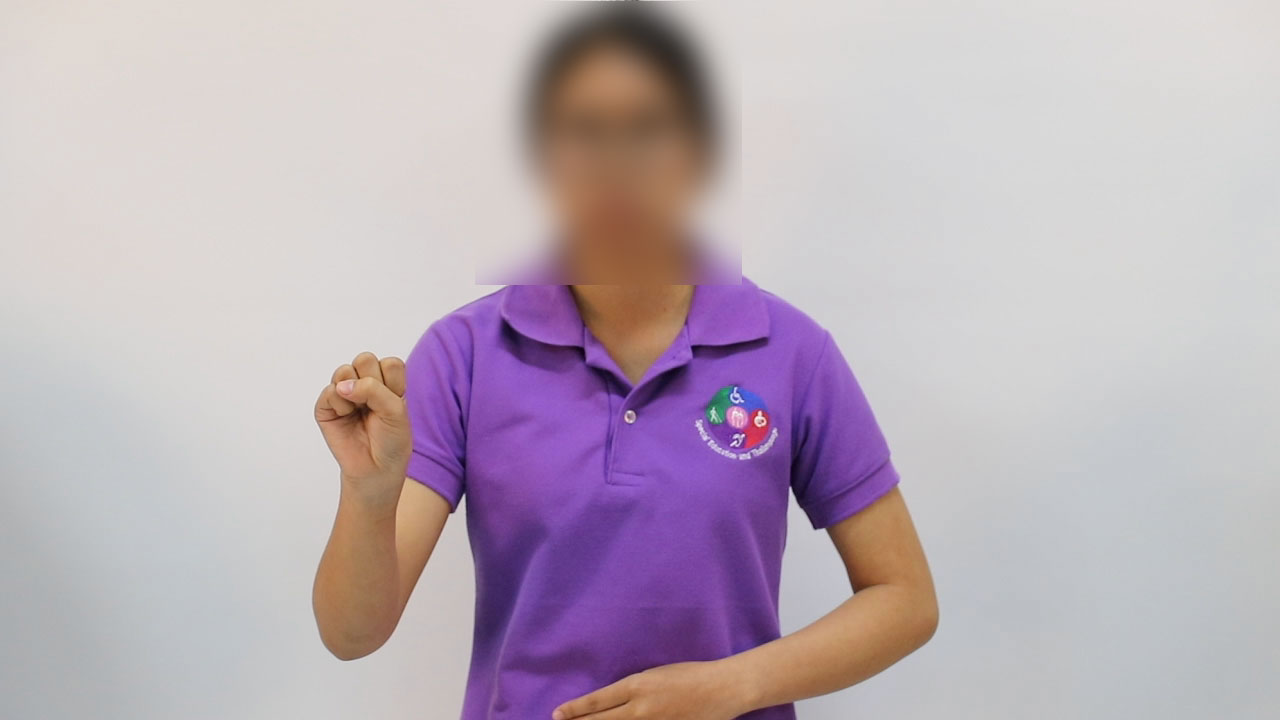sor: (302, 334, 427, 501)
